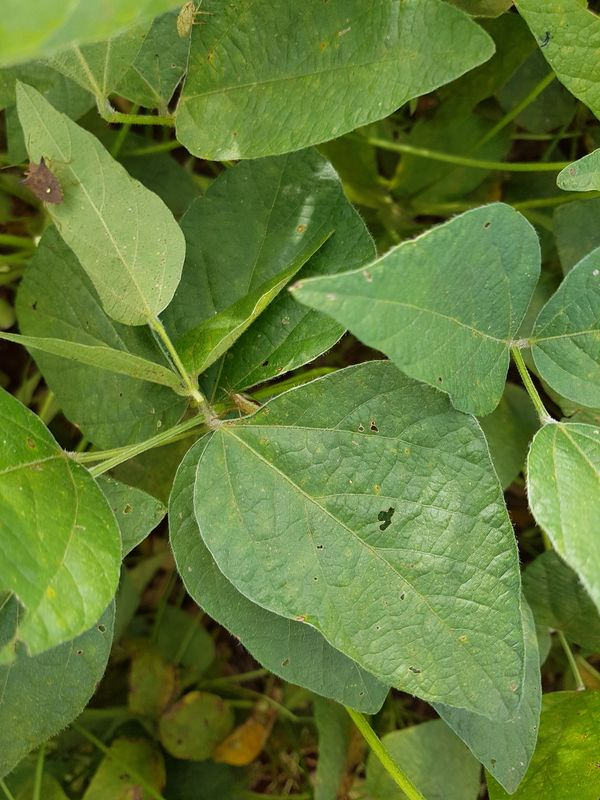Edessa_meditabunda: (201, 372, 281, 442)
Euschistus_heros_adulto: (1, 137, 100, 229)
Euschistus_heros_ninfa: (144, 1, 233, 62)
